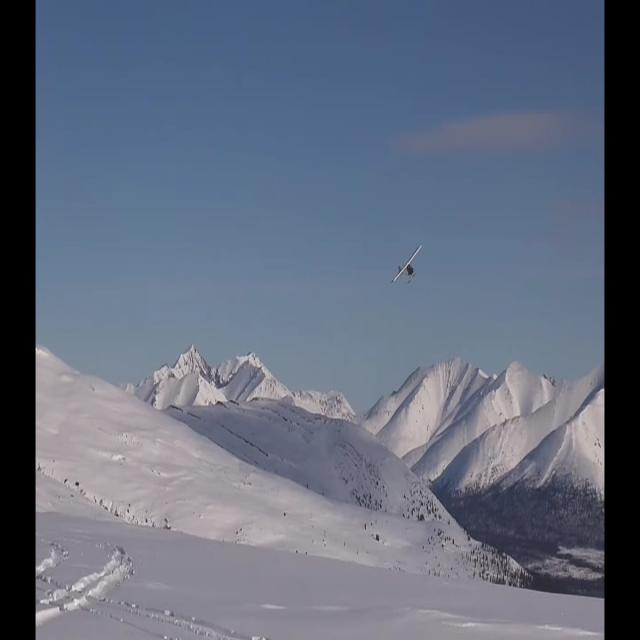iha: (390, 236, 422, 280)
